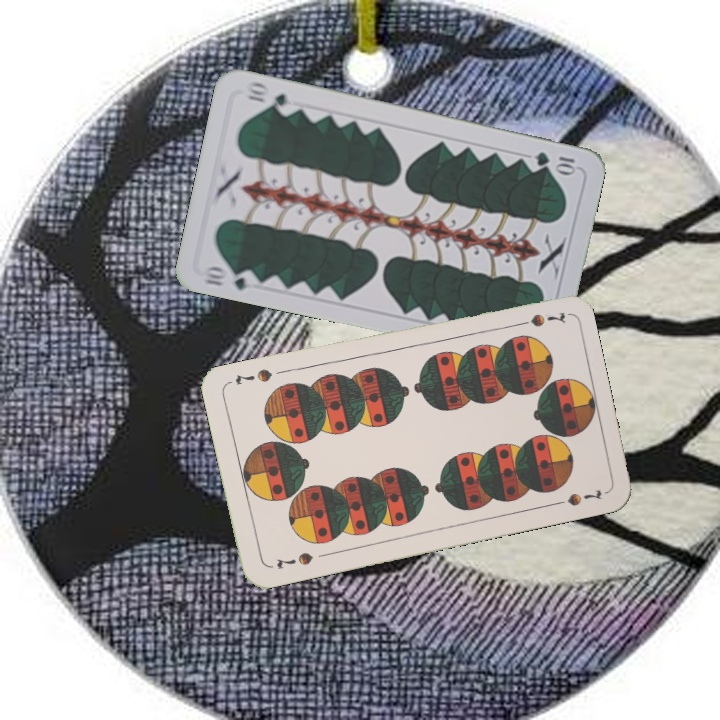G10: (199, 262, 259, 293), (531, 147, 580, 175)
S7: (509, 308, 568, 330), (272, 548, 316, 572)
